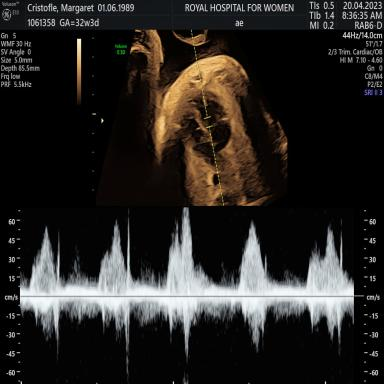Ultrasound-Waves: (26, 207, 352, 384)
